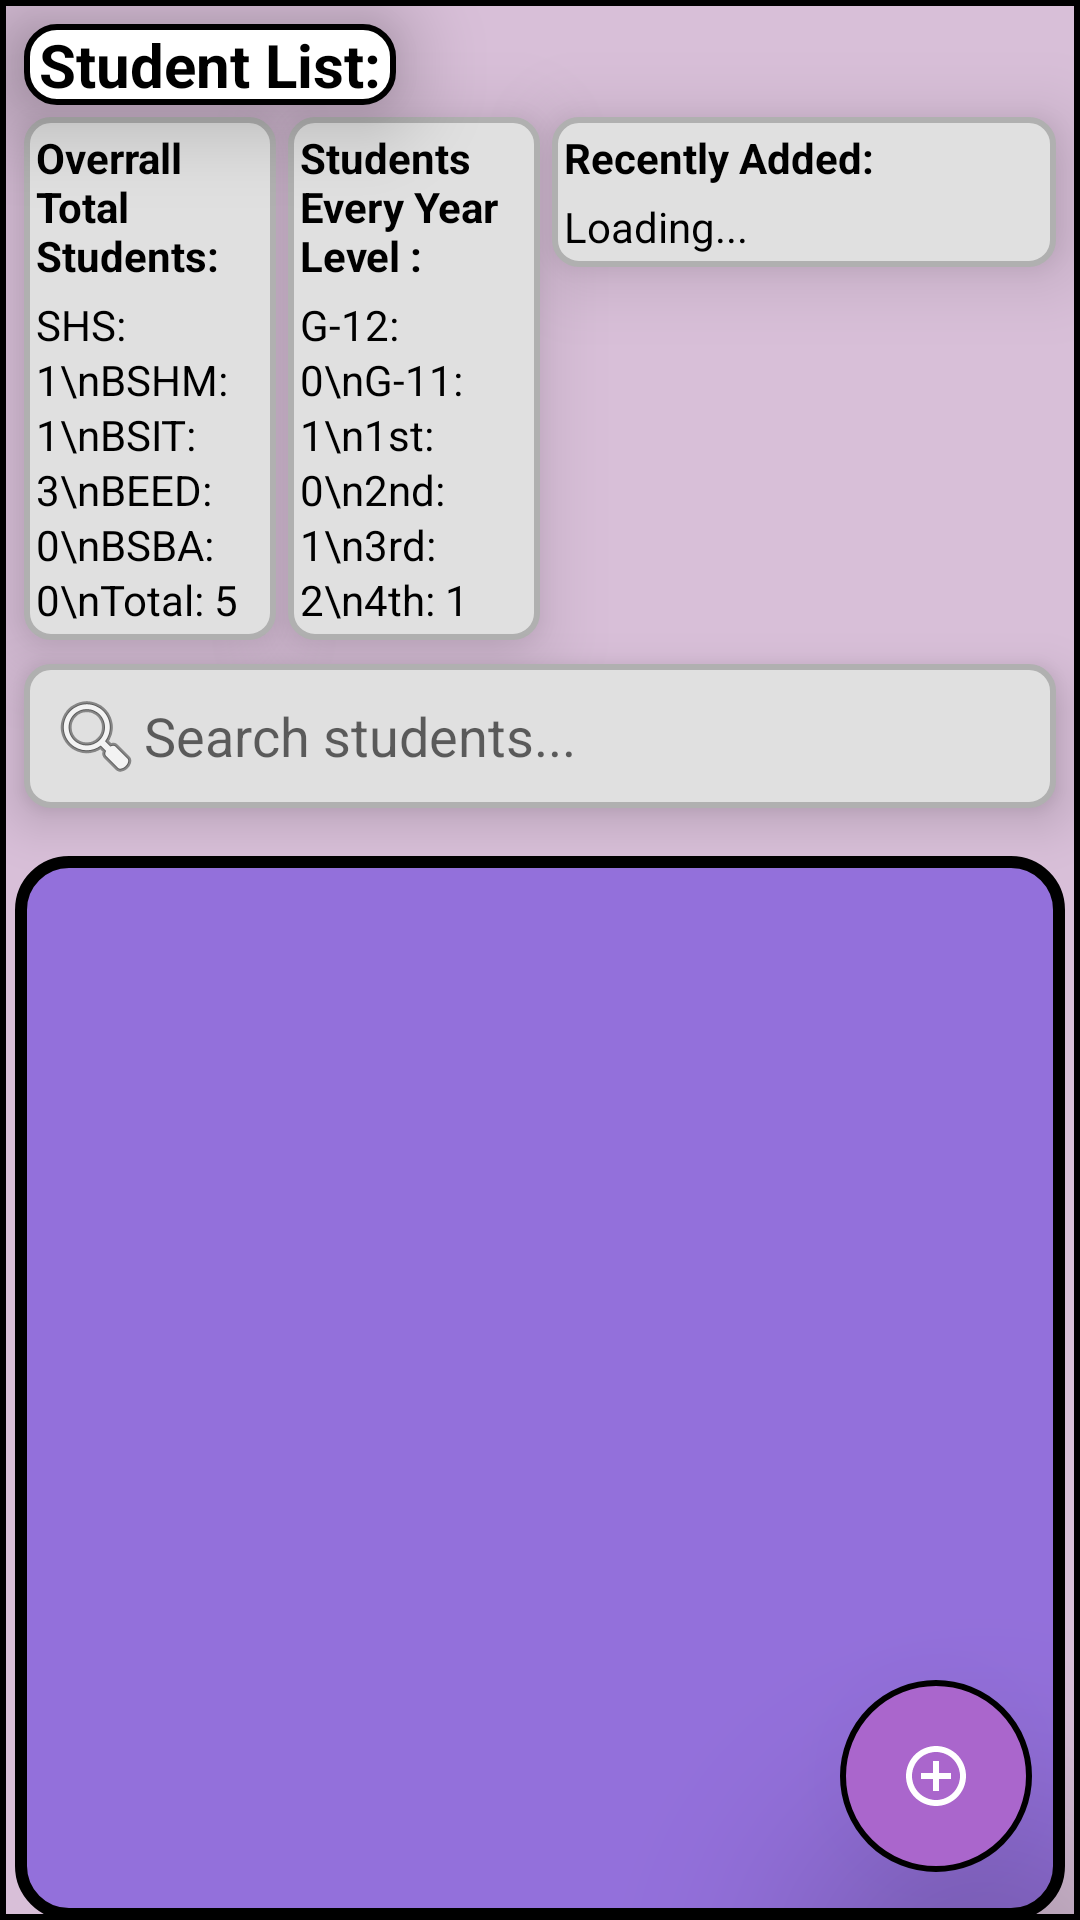

Named icons in this screenshot (1080w x 1920h) and their centers, (x=x, y=y):
Add Student: (x=936, y=1776)
